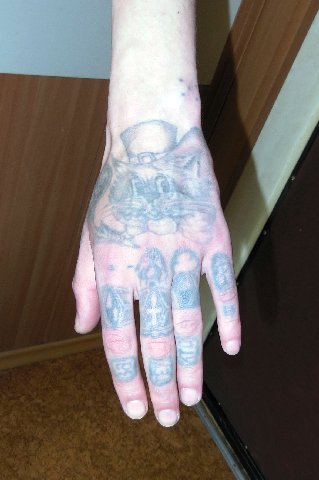tatu8_kot: (88, 118, 226, 246)
